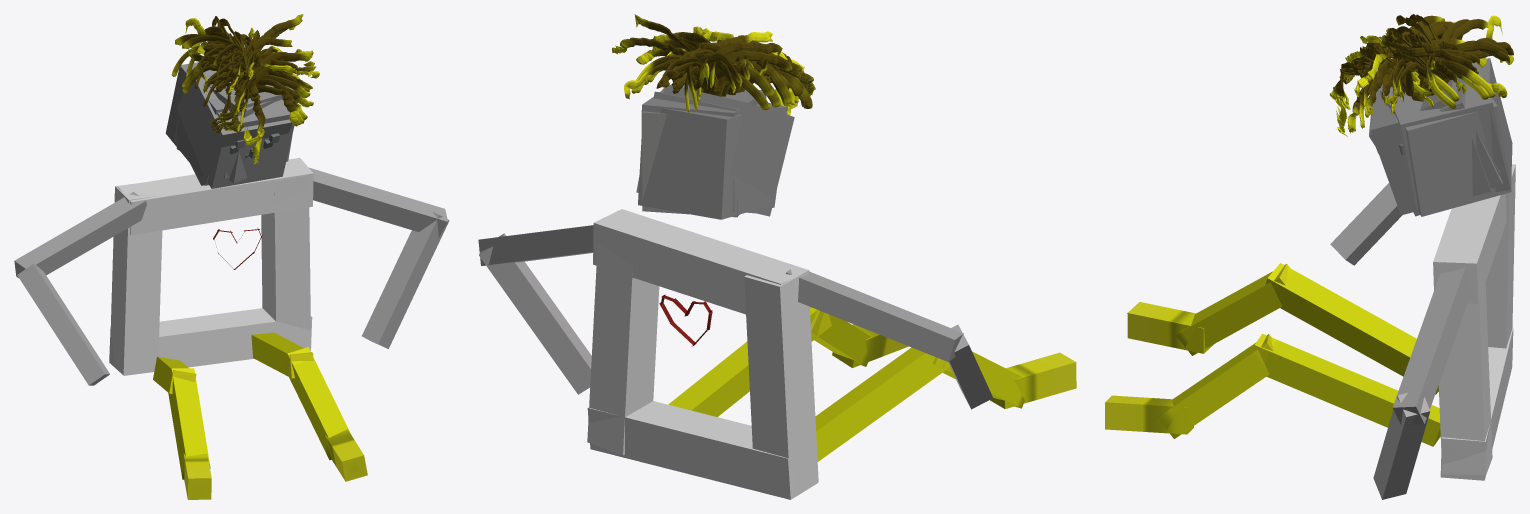
The model's file is lover-sit.fbx.
3 renders of one model, left to right at view 1: azimuth 30°, elevation 25°; view 2: azimuth 150°, elevation 25°; view 3: azimuth 270°, elevation 25°, orthographic. The views are drawn at different scales.
Parts seen in each view (by area): view 1: Paint; view 2: Paint; view 3: Paint.
Part boxes in pixels (box(x1,y1,x2,y2)): Paint: box(14, 14, 449, 499); Paint: box(478, 14, 1076, 499); Paint: box(1105, 14, 1515, 499).
Size of the model in its own units: 5.81 by 4.65 by 4.18.
